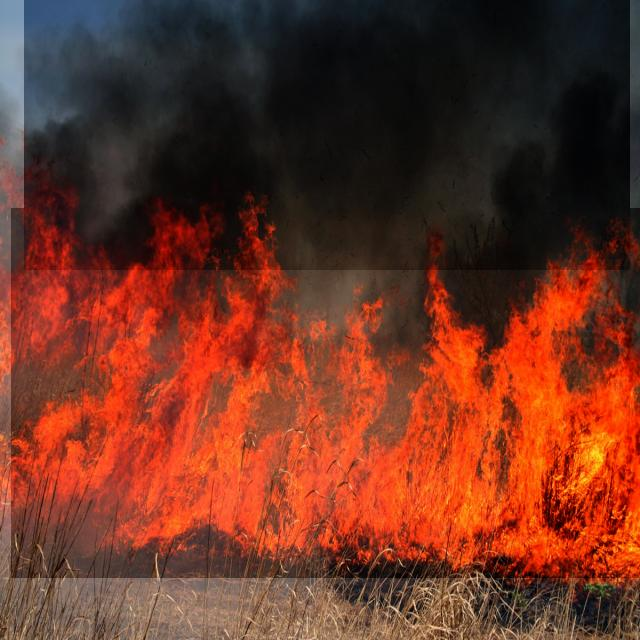Fire: (11, 208, 640, 578)
Smoke: (24, 0, 630, 270)
